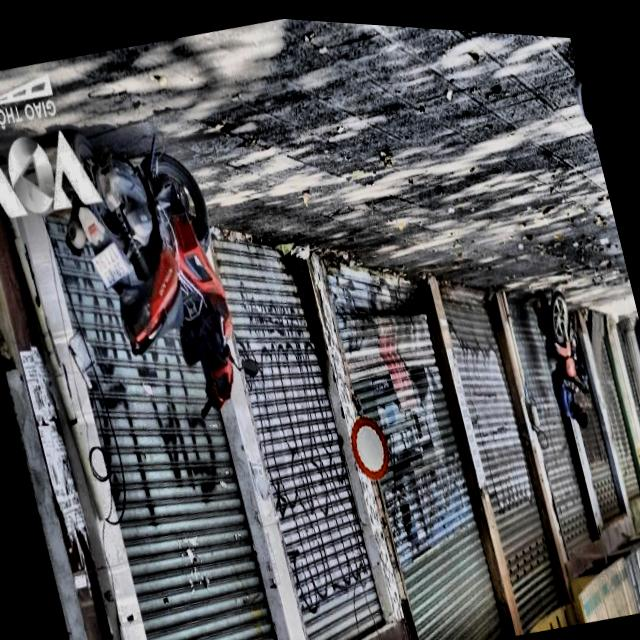Bien_bao_duong_cam: (343, 408, 397, 487)
